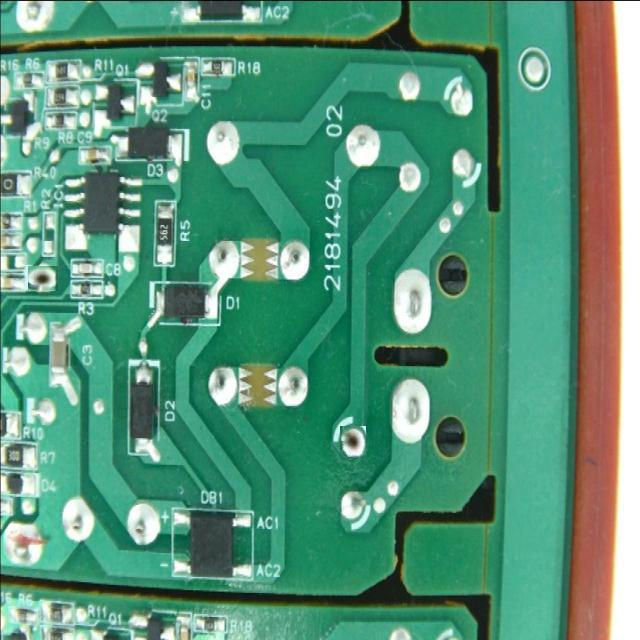damged: (340, 426, 366, 458), (29, 264, 57, 292)
